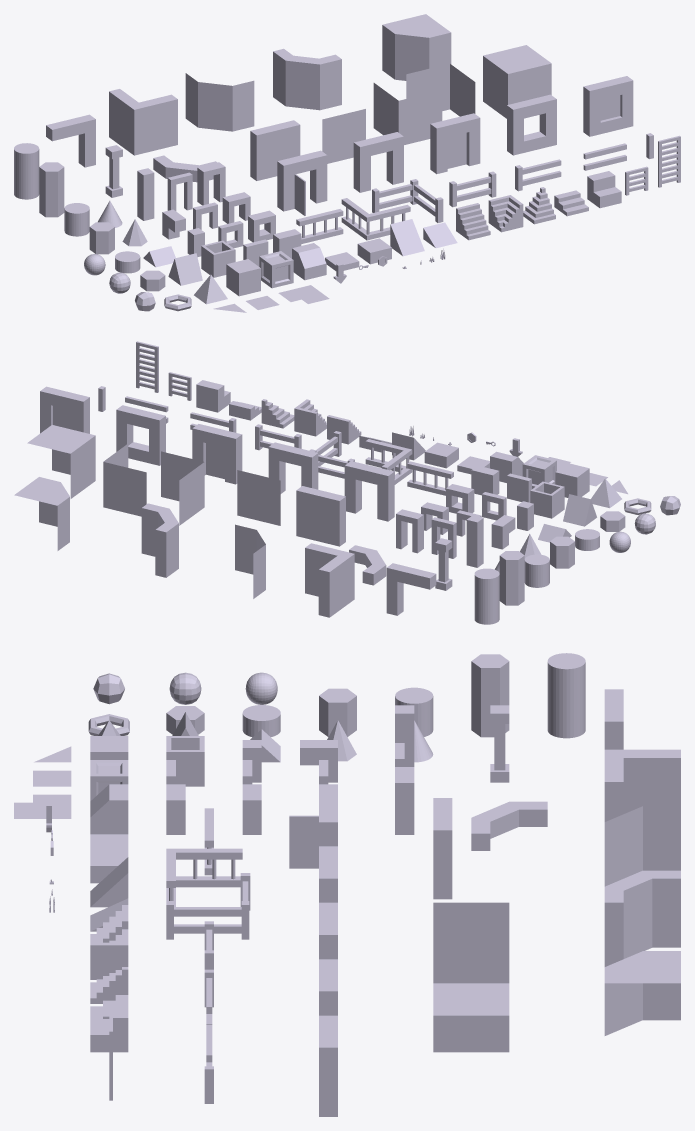
The picture shows the model from 3 angles, top to bottom: view 1: azimuth 30°, elevation 25°; view 2: azimuth 150°, elevation 25°; view 3: azimuth 270°, elevation 25°; orthographic projection. The views are drawn at different scales.
Visible parts, largest first — view 1: Wall_corner, Wall_corner.001, Wall_corner_top, Wall_corner_top.001, Wall_corner_bottom, Wall_corner_bottom.002, Wall_window, Wall_door.001, Wall_door.002, Wall_corner_bottom.001, Wall_window.001, Wall (+45 smaller); view 2: Wall_corner, Wall_corner_top.001, Wall, Wall_corner_bottom.002, Wall_door.001, Wall_corner_bottom.001, Wall_corner.001, Wall_window.001, Wall_door.002, Wall.107, Wall_corner_top, Wall_window (+40 smaller); view 3: Wall_corner.001, Wall_corner_top.001, Wall_corner_top, Wall_corner_bottom, Wall_corner, Wall_corner_bottom.002, Cylinder.005, Wall_door.002, Cylinder.004, Railing_edge, Wall_corner.004, Fence_edge (+31 smaller).
Boxes of the visible parts, bbox=[...] form: Wall_corner: bbox=[109, 89, 177, 155]; Wall_corner.001: bbox=[273, 48, 341, 110]; Wall_corner_top: bbox=[382, 14, 451, 80]; Wall_corner_top.001: bbox=[483, 45, 551, 118]; Wall_corner_bottom: bbox=[185, 73, 254, 131]; Wall_corner_bottom.002: bbox=[373, 83, 442, 144]; Wall_window: bbox=[583, 76, 633, 136]; Wall_door.001: bbox=[430, 113, 480, 174]; Wall_door.002: bbox=[277, 150, 327, 215]; Wall_corner_bottom.001: bbox=[406, 63, 475, 116]; Wall_window.001: bbox=[507, 94, 556, 155]; Wall: bbox=[250, 120, 300, 180]; Wall_corner: bbox=[305, 543, 354, 617]; Wall_corner_top.001: bbox=[27, 425, 95, 498]; Wall: bbox=[296, 486, 345, 546]; Wall_corner_bottom.002: bbox=[161, 451, 204, 525]; Wall_door.001: bbox=[192, 424, 242, 484]; Wall_corner_bottom.001: bbox=[103, 444, 146, 516]; Wall_corner.001: bbox=[141, 503, 178, 577]; Wall_window.001: bbox=[116, 405, 165, 465]; Wall_door.002: bbox=[344, 461, 394, 521]; Wall.107: bbox=[237, 470, 280, 525]; Wall_corner_top: bbox=[14, 477, 69, 550]; Wall_window: bbox=[40, 386, 89, 433]; Wall_corner.001: bbox=[604, 870, 680, 966]; Wall_corner_top.001: bbox=[433, 983, 509, 1052]; Wall_corner_top: bbox=[604, 951, 680, 1035]; Wall_corner_bottom: bbox=[604, 806, 680, 886]; Wall_corner: bbox=[604, 749, 680, 821]; Wall_corner_bottom.002: bbox=[433, 902, 509, 959]; Cylinder.005: bbox=[547, 653, 585, 738]; Wall_door.002: bbox=[289, 790, 337, 868]; Cylinder.004: bbox=[471, 654, 509, 737]; Railing_edge: bbox=[166, 848, 242, 906]; Wall_corner.004: bbox=[471, 801, 547, 850]; Fence_edge: bbox=[166, 873, 250, 939].
Size of the model in its own units: 51.84 by 4.02 by 35.
75 materials, 75 textured.
